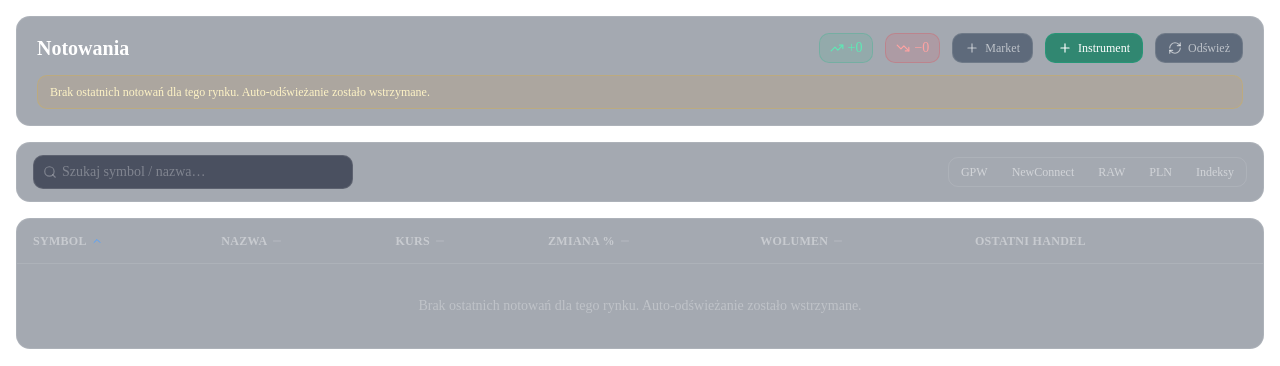
QuotesPage manual instruments › shows manual quote_source error details when the refreshed market still has no quotes
Click the button "Odśwież": (1199, 48) [1155,33,1243,63]
Wait 4000 ms
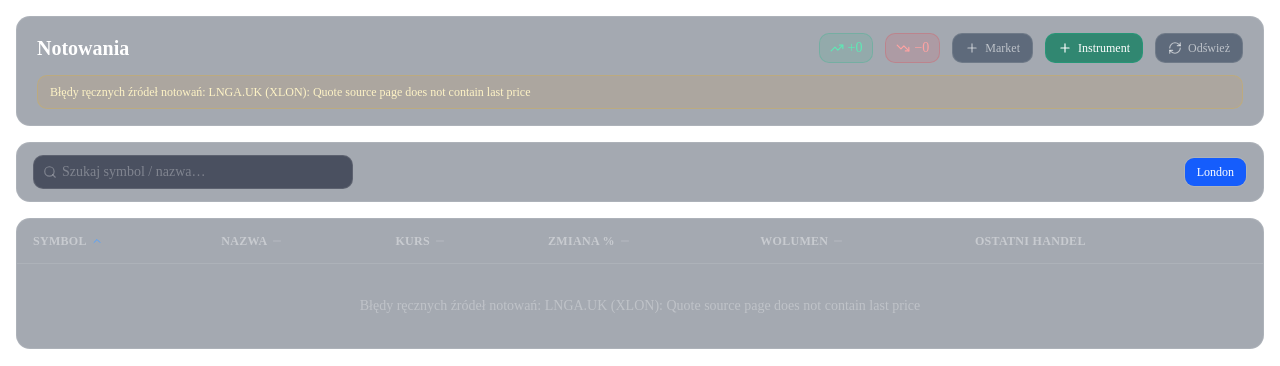
Expected: the text "Błędy ręcznych źródeł notowań: LNGA.UK (XLON)" is shown, [50,85,530,99]
